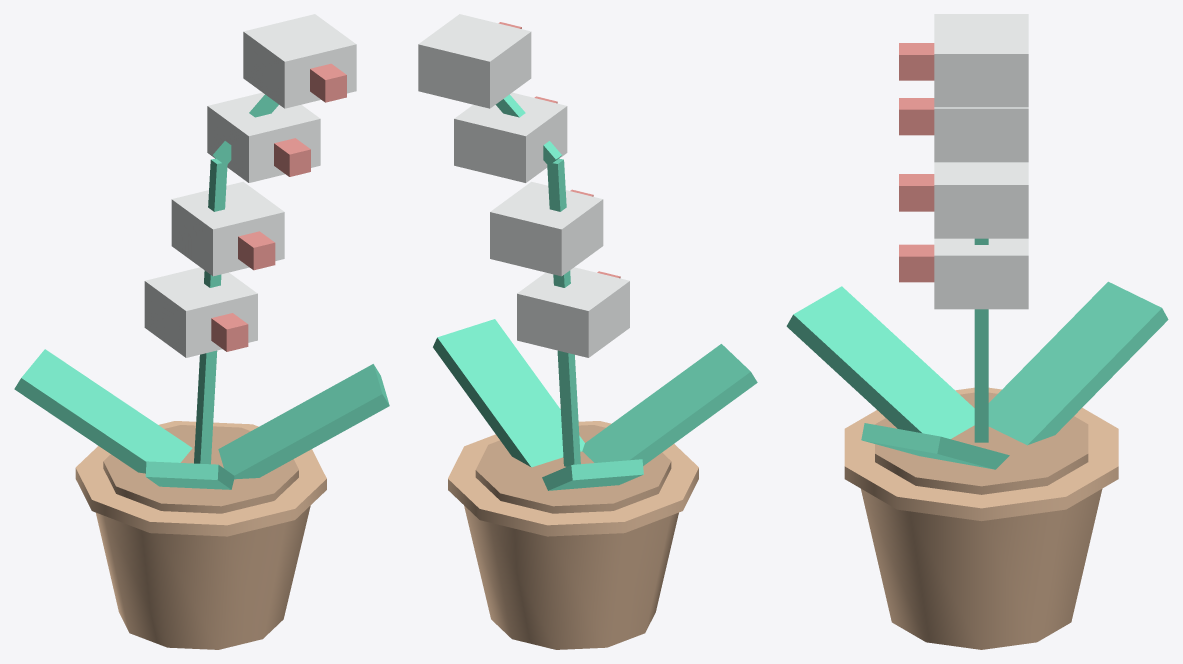
Rendered from plantOrchid.glb.
3 renders of one model, left to right at view 1: azimuth 30°, elevation 25°; view 2: azimuth 150°, elevation 25°; view 3: azimuth 270°, elevation 25°, orthographic. The views are drawn at different scales.
Visible parts, largest first — view 1: plantOrchid; view 2: plantOrchid; view 3: plantOrchid.
Boxes of the visible parts, left/top/right/bottom form: plantOrchid: left=14, top=14, right=389, bottom=649; plantOrchid: left=418, top=14, right=757, bottom=649; plantOrchid: left=786, top=14, right=1168, bottom=649.
Size of the model in its own units: 0.1611 by 0.295 by 0.1619.
